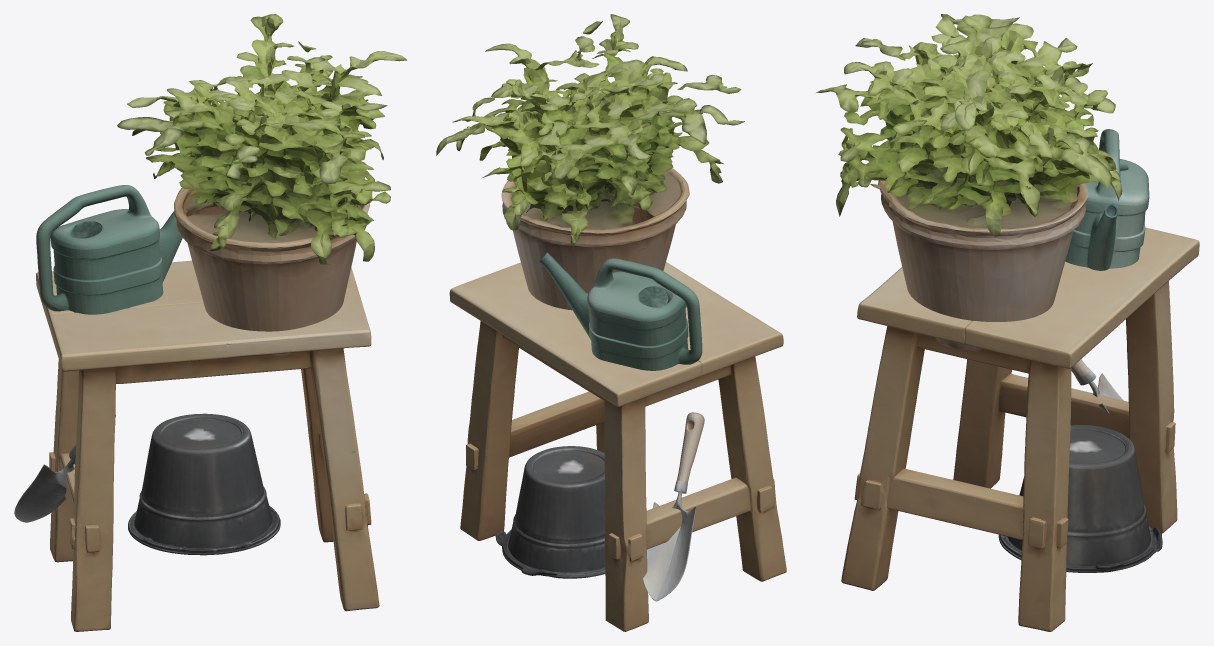
File: sam3d.glb
3 renders of one model, left to right at view 1: azimuth 30°, elevation 25°; view 2: azimuth 150°, elevation 25°; view 3: azimuth 270°, elevation 25°, orthographic. The views are drawn at different scales.
Parts seen in each view (by area): view 1: object_04, object_03, object_02, object_01, object_00; view 2: object_03, object_04, object_01, object_02, object_00; view 3: object_03, object_04, object_02, object_01, object_00.
Part boxes in pixels (box(x1,y1,x2,y2)): object_04: box(117, 14, 407, 356); object_03: box(36, 260, 379, 631); object_02: box(128, 413, 280, 555); object_01: box(36, 185, 182, 314); object_00: box(14, 415, 115, 522); object_03: box(449, 262, 786, 631); object_04: box(436, 14, 744, 310); object_01: box(539, 252, 702, 370); object_02: box(495, 446, 605, 578); object_00: box(642, 412, 704, 601); object_03: box(841, 227, 1199, 631); object_04: box(816, 14, 1122, 351); object_02: box(998, 425, 1162, 572); object_01: box(1065, 129, 1149, 270); object_00: box(1071, 359, 1123, 413).
Bounding box in the file's own units: 0.6859 × 1.08 × 0.6567.
